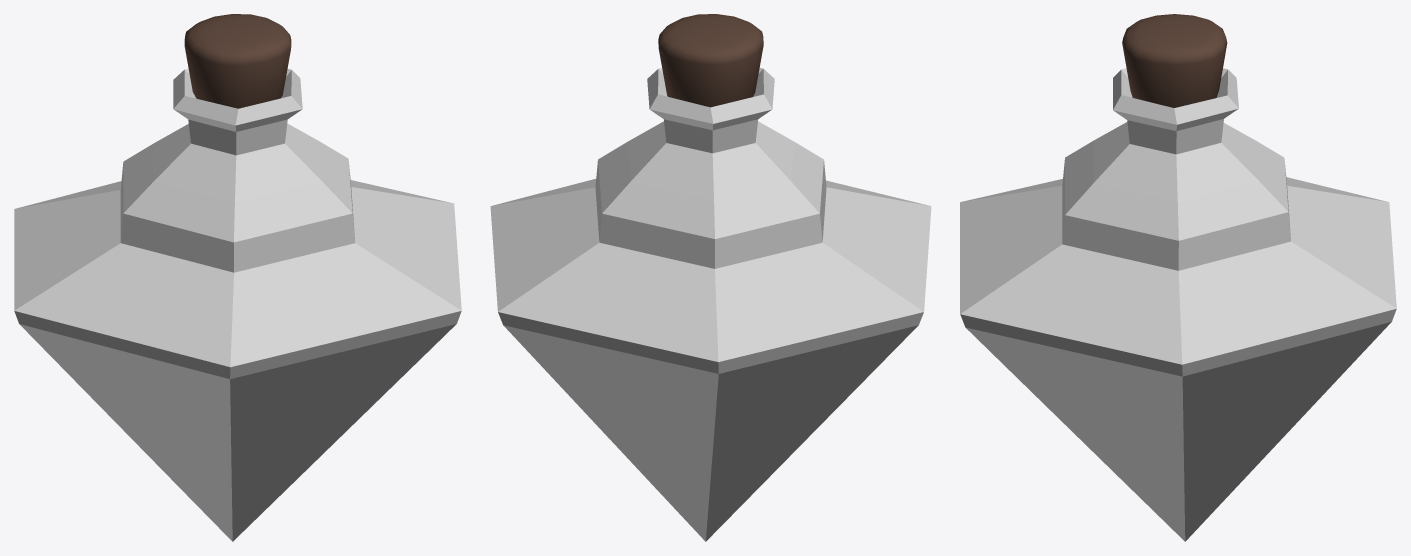
The model's file is Potion11_Filled.glb.
3 renders of one model, left to right at view 1: azimuth 30°, elevation 25°; view 2: azimuth 150°, elevation 25°; view 3: azimuth 270°, elevation 25°, orthographic.
Visible parts, largest first — view 1: Potion11_Filled_Cube.073; view 2: Potion11_Filled_Cube.073; view 3: Potion11_Filled_Cube.073.
Boxes of the visible parts, box(x1,y1,x2,y2) form: Potion11_Filled_Cube.073: box(14, 14, 461, 541); Potion11_Filled_Cube.073: box(490, 14, 931, 541); Potion11_Filled_Cube.073: box(960, 14, 1396, 541).
Size of the model in its own units: 0.8358 by 0.9373 by 0.7238.
